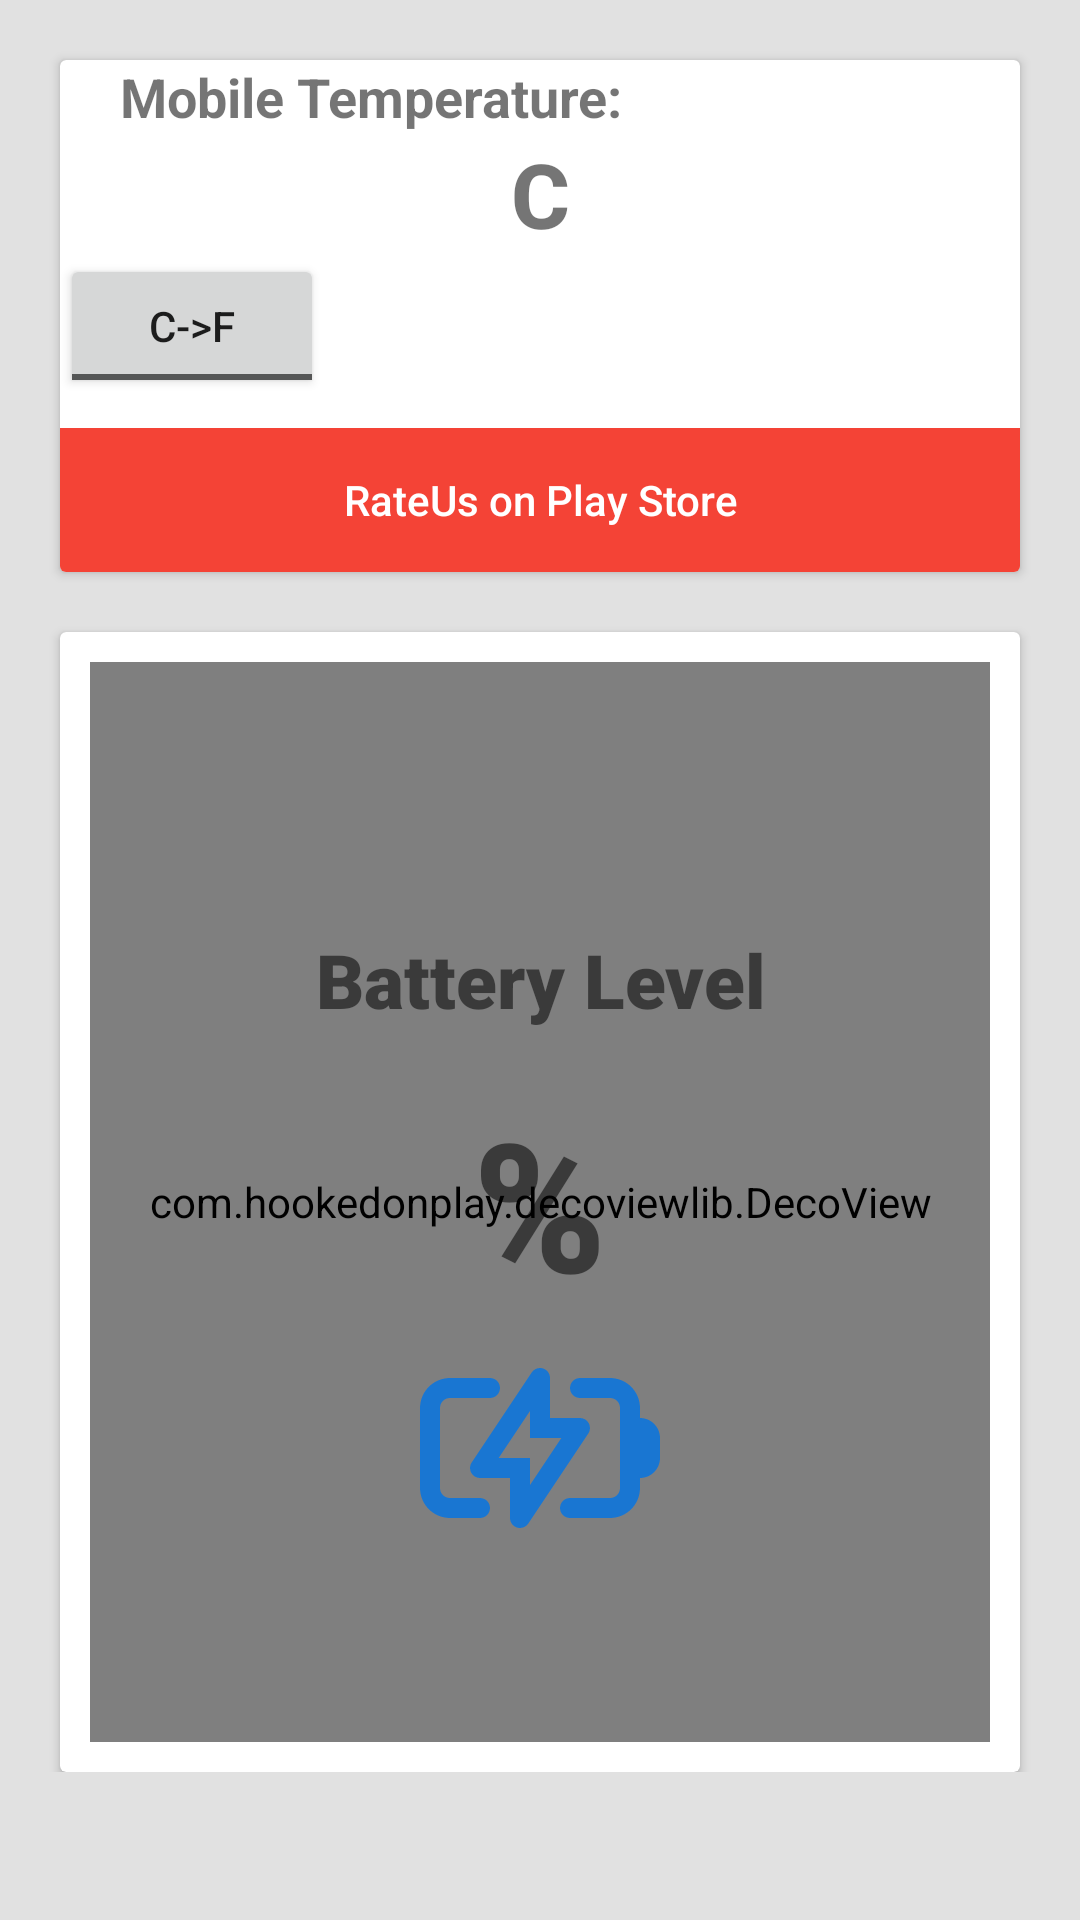

Icon click points for this 1080px×1920px phone screenshot, format point (x, y):
battery charging: point (540, 1448)
